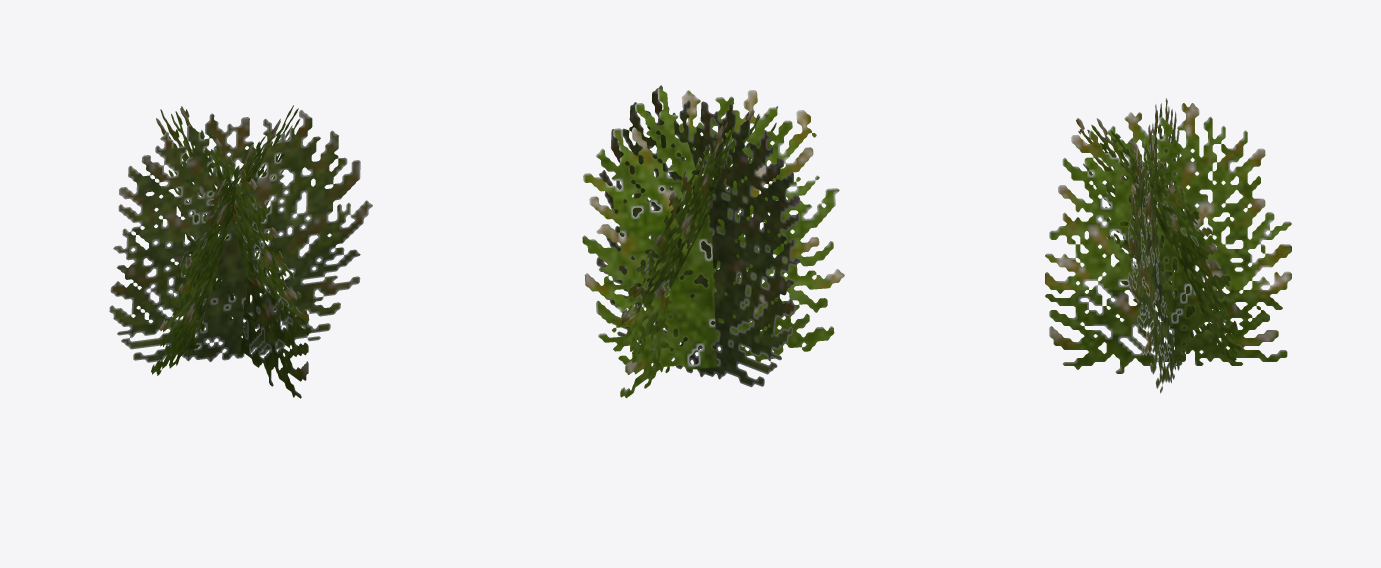
The model's file is myrtle_bush_2.obj.
3 views of the same model, side by side, from view 1: azimuth 30°, elevation 25°; view 2: azimuth 150°, elevation 25°; view 3: azimuth 270°, elevation 25° (orthographic). The views are drawn at different scales.
Parts seen in each view (by area): view 1: plane; view 2: plane; view 3: plane.
Part boxes in pixels (box(x1,y1,x2,y2)): plane: box(109, 105, 372, 398); plane: box(582, 85, 844, 398); plane: box(1045, 98, 1291, 393).
Size of the model in its own units: 2.93 by 2.97 by 2.88.
